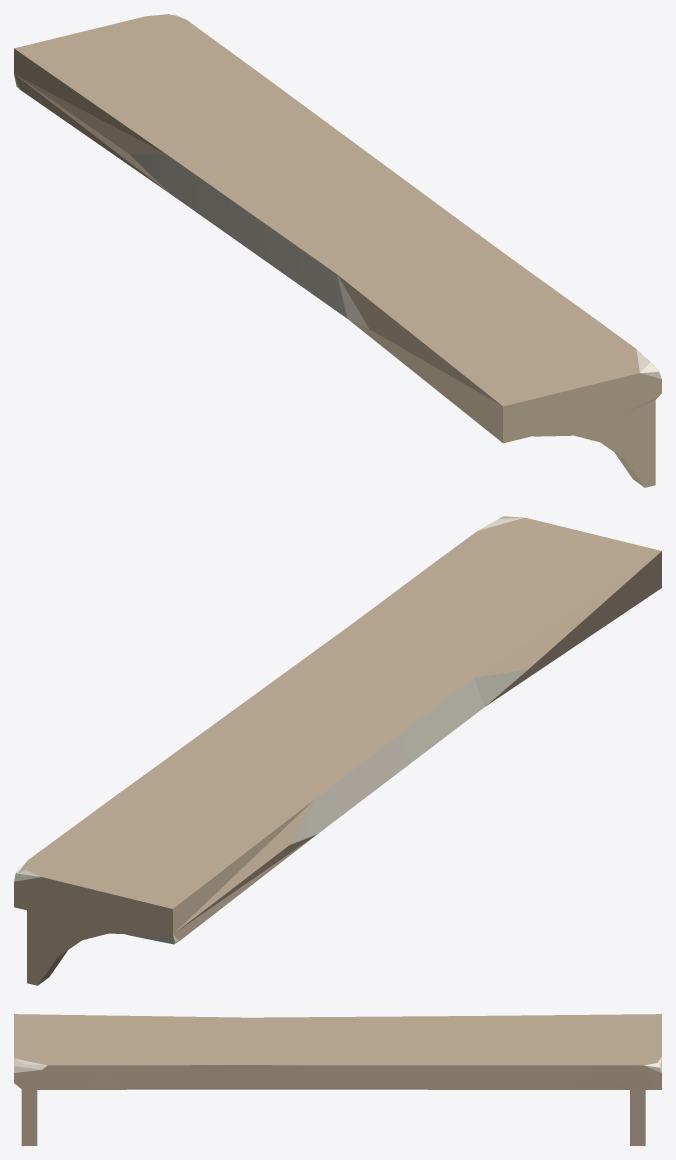
The model's file is Półka2.fbx.
The picture shows the model from 3 angles, top to bottom: view 1: azimuth 30°, elevation 25°; view 2: azimuth 150°, elevation 25°; view 3: azimuth 270°, elevation 25°; orthographic projection. The views are drawn at different scales.
Parts seen in each view (by area): view 1: 1; view 2: 1; view 3: 1.
Part boxes in pixels (x1,y1,x2,y2): 1: (14,14,661,487); 1: (14,516,661,985); 1: (14,1014,661,1145).
Bounding box in the file's own units: 45.22 × 32.95 × 240.
